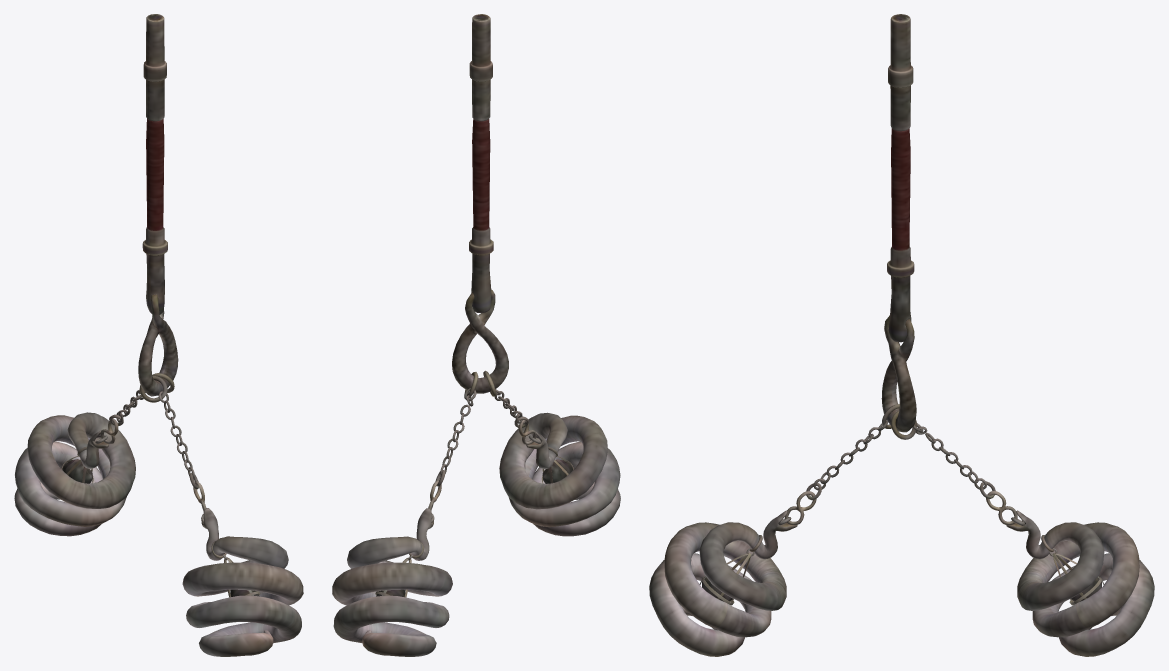
Rendered from weapon-wp_a_1257.glb.
3 views of the same model, side by side, from view 1: azimuth 30°, elevation 25°; view 2: azimuth 150°, elevation 25°; view 3: azimuth 270°, elevation 25° (orthographic). The views are drawn at different scales.
Parts seen in each view (by area): view 1: wp_a_1257_mesh; view 2: wp_a_1257_mesh; view 3: wp_a_1257_mesh.
Boxes of the visible parts, bbox=[...] form: wp_a_1257_mesh: bbox=[14, 14, 303, 656]; wp_a_1257_mesh: bbox=[332, 14, 620, 656]; wp_a_1257_mesh: bbox=[649, 14, 1154, 656].
Bounding box in the file's own units: 0.1898 × 1.01 × 0.7356.
Materials: 2 (2 with a texture image).
